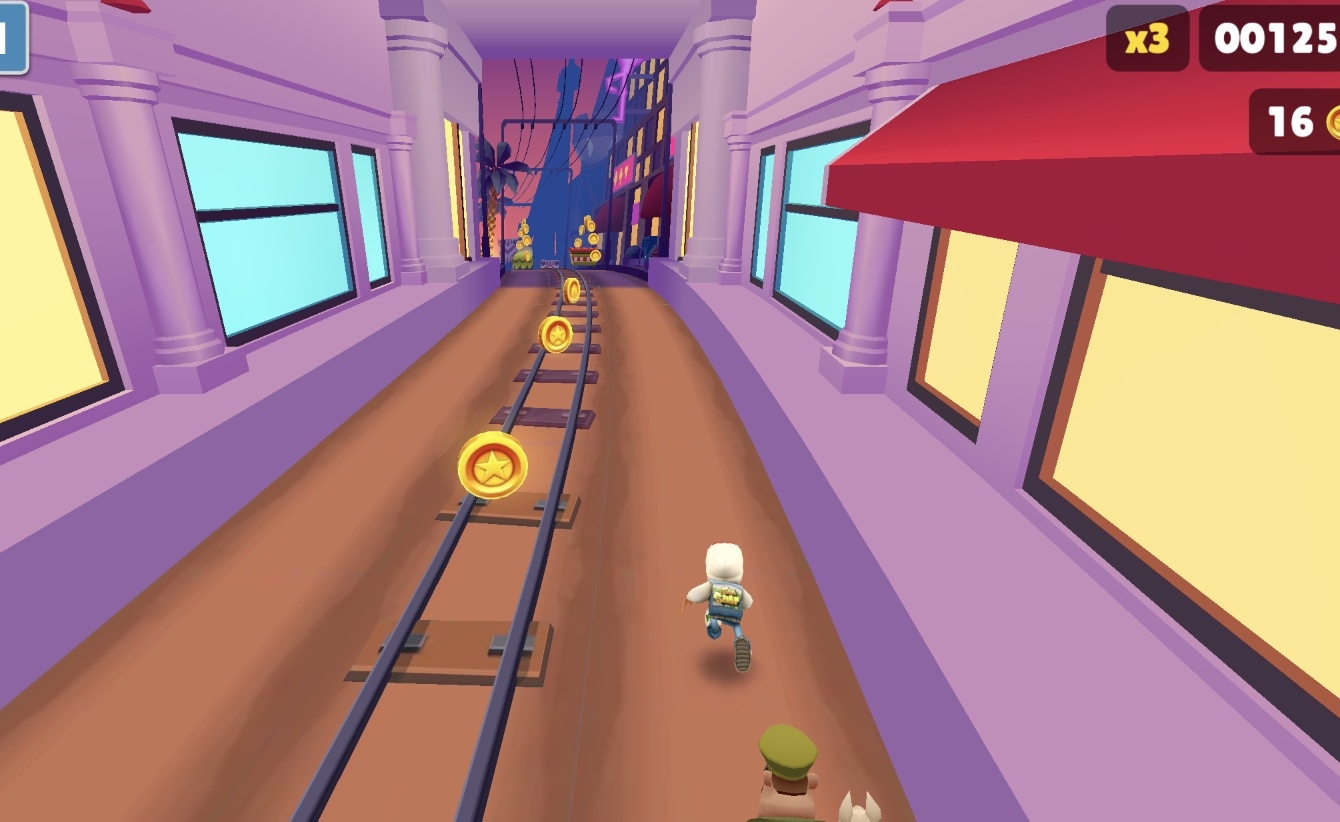bush: (512, 245, 534, 266)
ground_barrier: (568, 247, 598, 266), (540, 257, 562, 268)
overhead_barrier: (501, 238, 523, 268)
